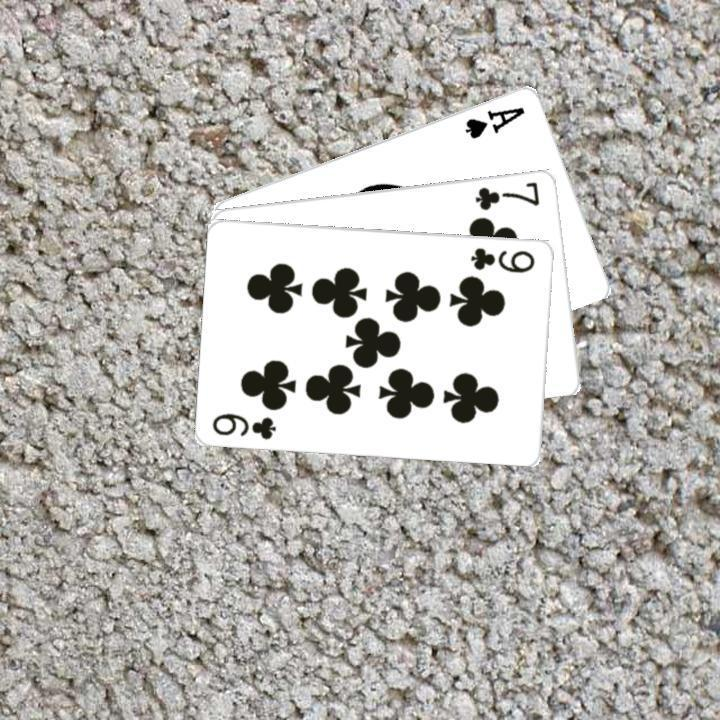7: (471, 176, 542, 212)
9: (208, 408, 279, 441), (466, 242, 537, 274)
A: (461, 102, 527, 140)
